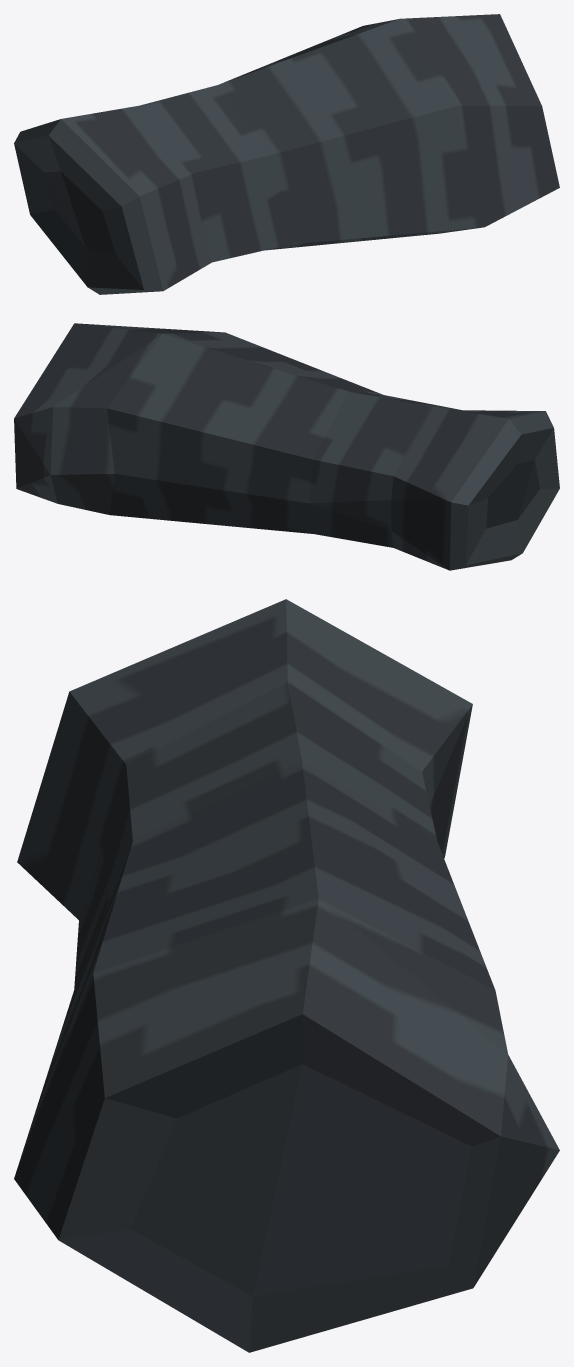
Rendered from Chr_ArmLowerRight_Male_17_Static.fbx.
3 renders of one model, top to bottom at view 1: azimuth 30°, elevation 25°; view 2: azimuth 150°, elevation 25°; view 3: azimuth 270°, elevation 25°, orthographic. The views are drawn at different scales.
Parts seen in each view (by area): view 1: Chr_ArmLowerRight_Male_17_Static; view 2: Chr_ArmLowerRight_Male_17_Static; view 3: Chr_ArmLowerRight_Male_17_Static.
Part boxes in pixels (bbox=[...]): Chr_ArmLowerRight_Male_17_Static: bbox=[14, 14, 559, 294]; Chr_ArmLowerRight_Male_17_Static: bbox=[14, 323, 559, 570]; Chr_ArmLowerRight_Male_17_Static: bbox=[14, 599, 559, 1352].
Bounding box in the file's own units: 0.296 × 0.1221 × 0.16.
